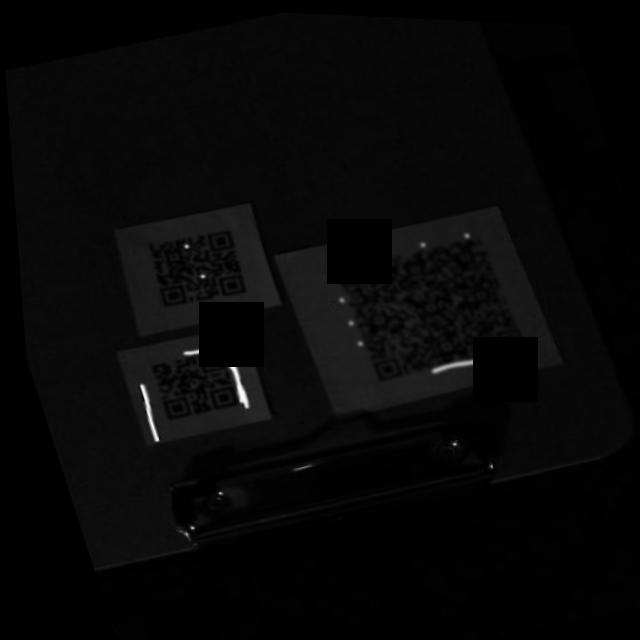QR_CODE: (315, 212, 536, 397), (128, 209, 262, 328), (125, 332, 252, 439)
